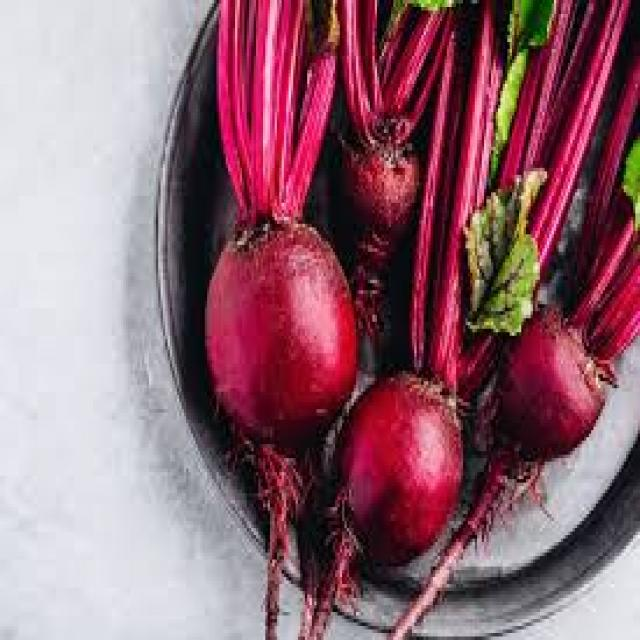organic waste: (408, 0, 628, 395), (200, 213, 352, 441), (212, 0, 340, 231), (389, 440, 528, 636), (330, 364, 461, 570), (566, 70, 638, 360), (324, 123, 416, 340), (491, 301, 607, 465), (335, 0, 449, 140), (458, 161, 542, 332), (486, 0, 554, 175), (244, 440, 300, 636), (305, 507, 354, 637), (616, 130, 638, 234), (379, 0, 451, 24)
